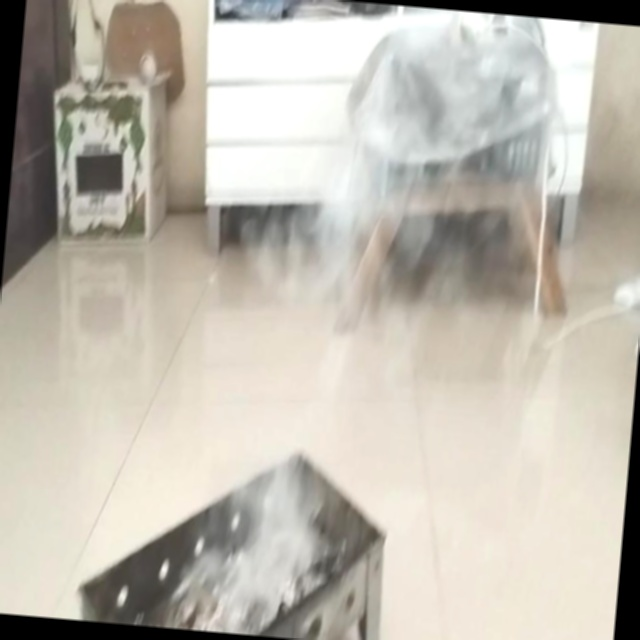smoke: (232, 23, 468, 619)
